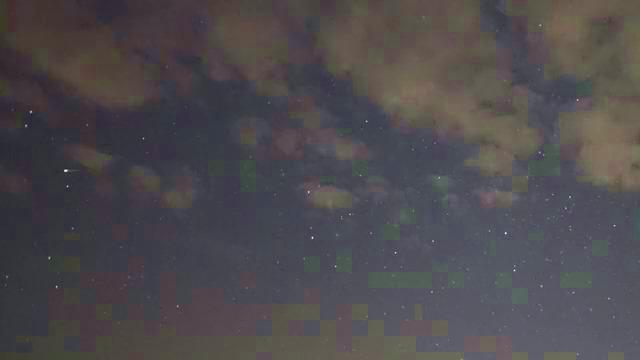meteorite: (62, 160, 87, 179)
